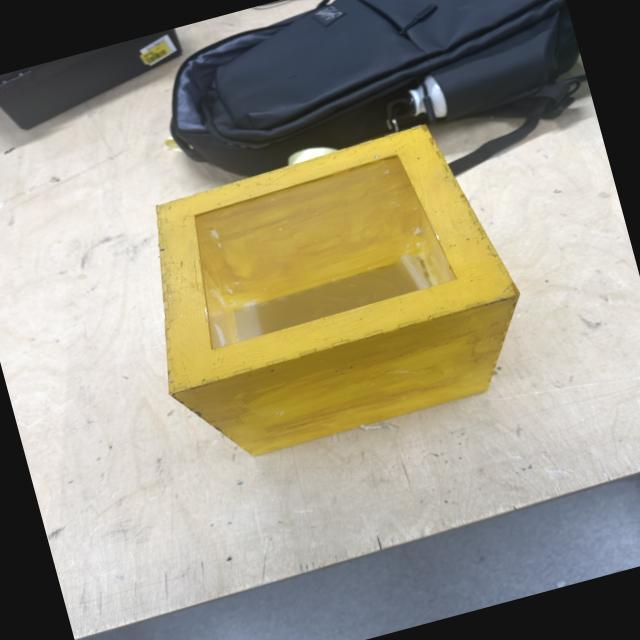yellow_bin: (118, 109, 543, 476)
